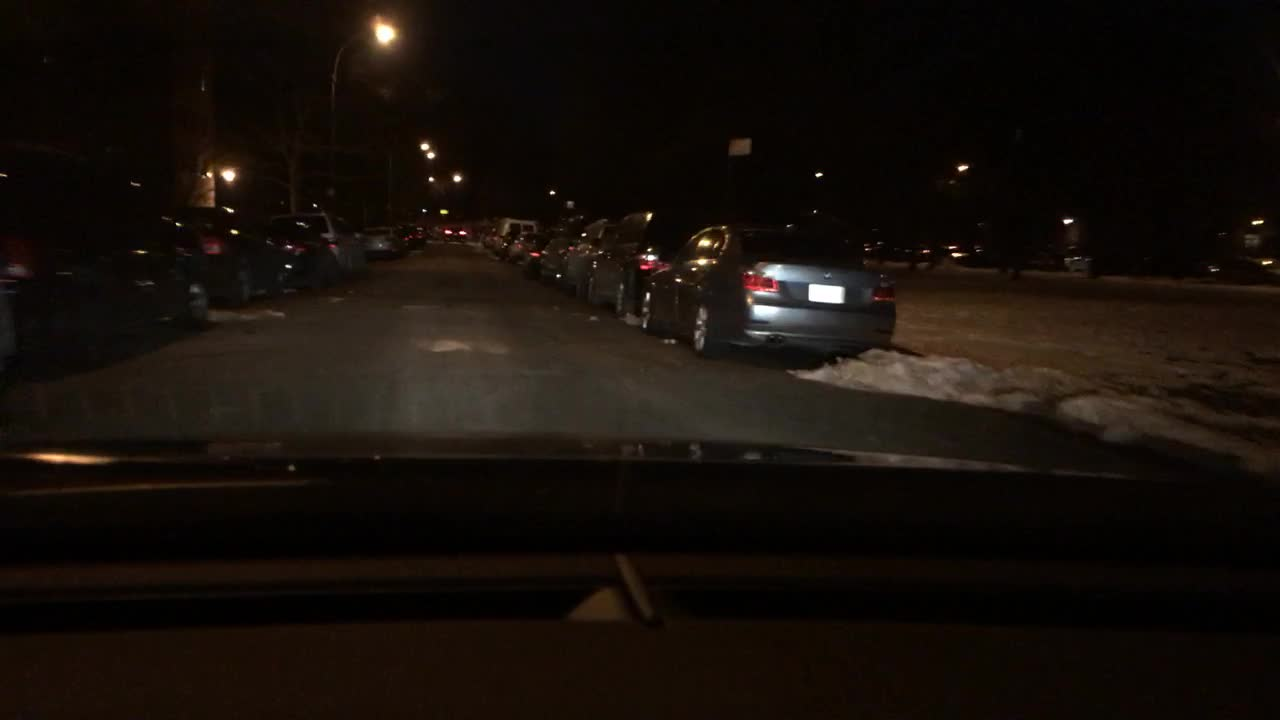car: (0, 164, 207, 373), (642, 224, 897, 354), (586, 208, 712, 325), (165, 207, 271, 306), (254, 211, 343, 286), (272, 212, 362, 275), (559, 216, 612, 300), (491, 219, 539, 255), (523, 230, 563, 273), (541, 236, 575, 283), (358, 223, 411, 253), (499, 232, 545, 262), (402, 225, 429, 248), (441, 225, 469, 242), (480, 223, 495, 243)
traffic sign: (727, 138, 756, 157)
